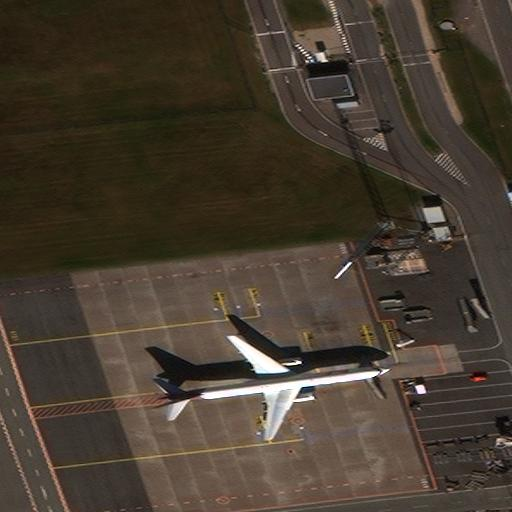Large Civil Transport: (160, 334, 390, 439)
